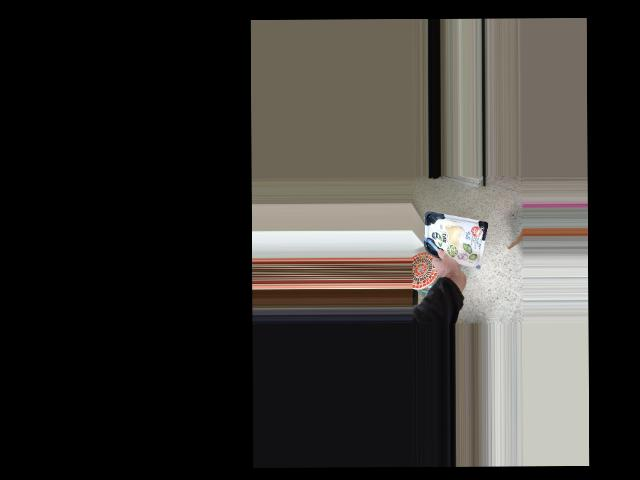cheese: (434, 227, 481, 277)
